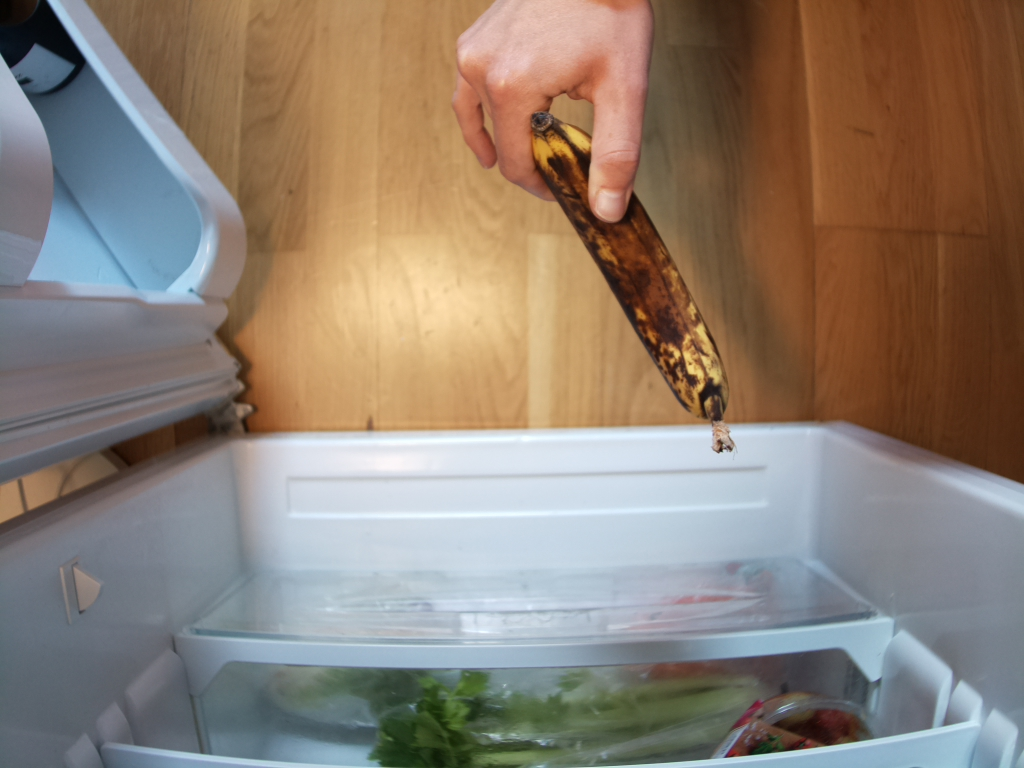banana-overripe: (533, 110, 736, 452)
